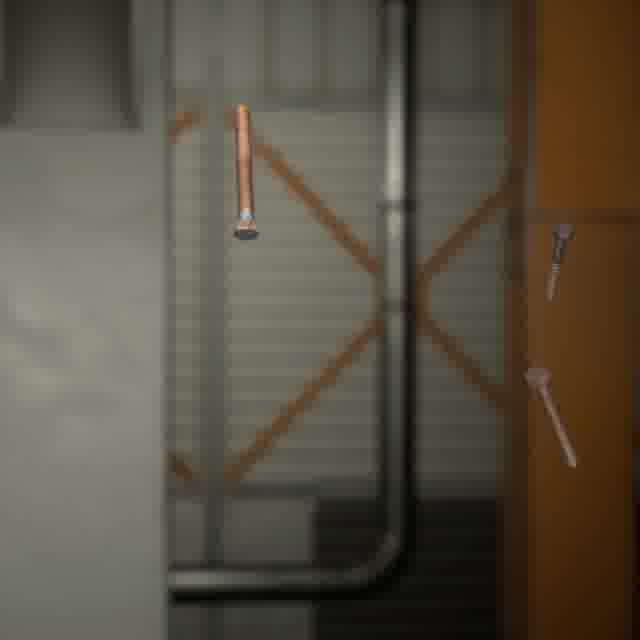bolt: (520, 361, 582, 472), (229, 100, 263, 244), (541, 218, 578, 307)
